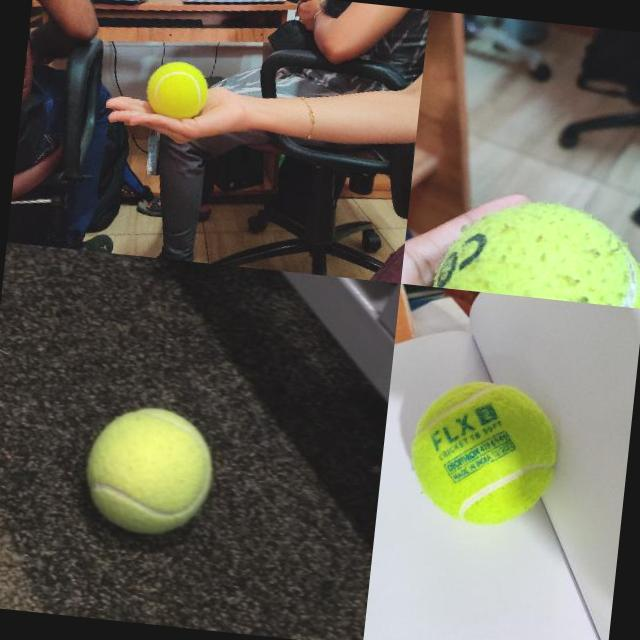Tennis Ball: (402, 372, 564, 532), (429, 189, 640, 307), (80, 401, 218, 539), (144, 59, 209, 118)
